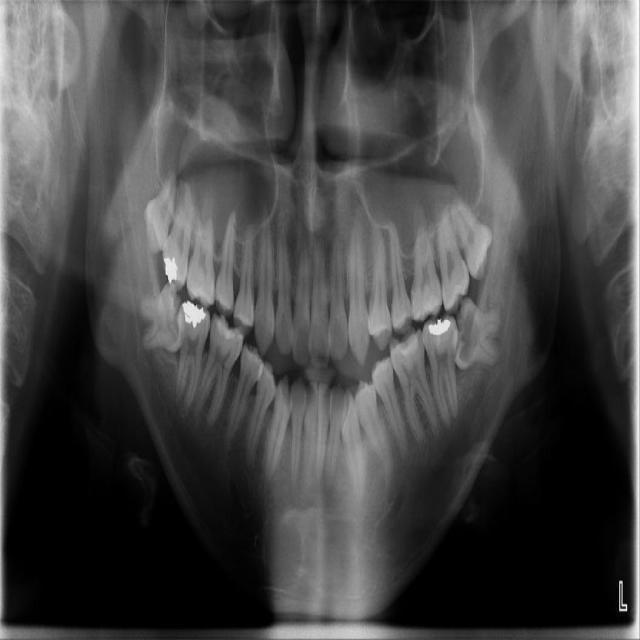Caries: (458, 312, 475, 361)
Filling: (394, 336, 418, 361), (184, 303, 207, 327), (427, 314, 450, 337), (164, 253, 181, 282)
impacted tooth: (457, 299, 507, 367), (132, 283, 183, 349), (452, 199, 491, 276), (145, 168, 178, 249)
